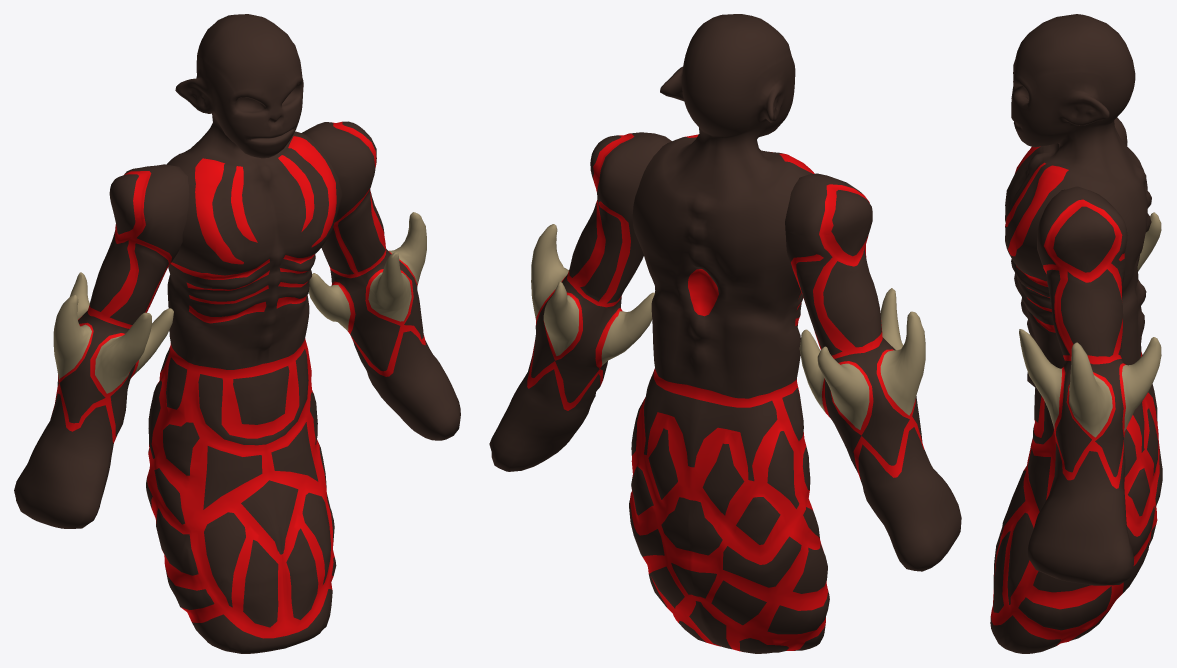
The model's file is fireDemon_low.fbx.
The picture shows the model from 3 angles, left to right: view 1: azimuth 30°, elevation 25°; view 2: azimuth 150°, elevation 25°; view 3: azimuth 270°, elevation 25°; orthographic projection. The views are drawn at different scales.
Parts seen in each view (by area): view 1: Body_low, Arms_low; view 2: Body_low, Arms_low; view 3: Body_low, Arms_low.
Boxes of the visible parts, x1,y1,x2,y2 form: Body_low: (146, 14, 342, 653); Arms_low: (14, 121, 460, 528); Body_low: (629, 14, 829, 653); Arms_low: (489, 132, 961, 571); Body_low: (990, 14, 1162, 653); Arms_low: (1019, 117, 1161, 585).
Bounding box in the file's own units: 1252 × 1704 × 432.
